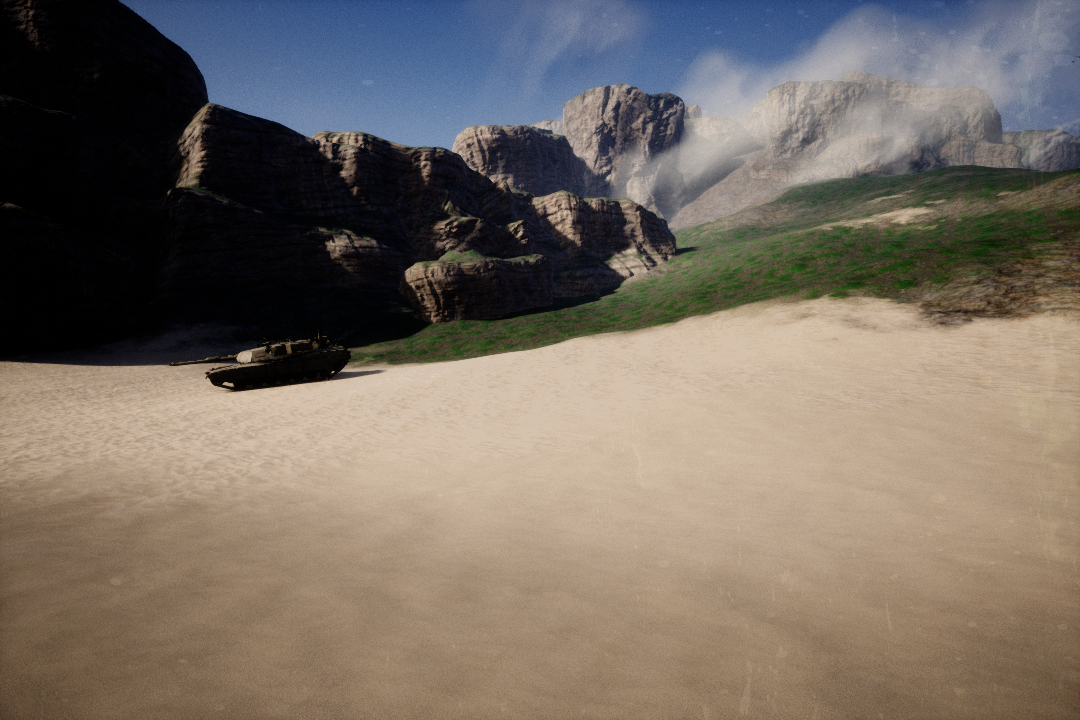tank: (172, 337, 358, 392)
